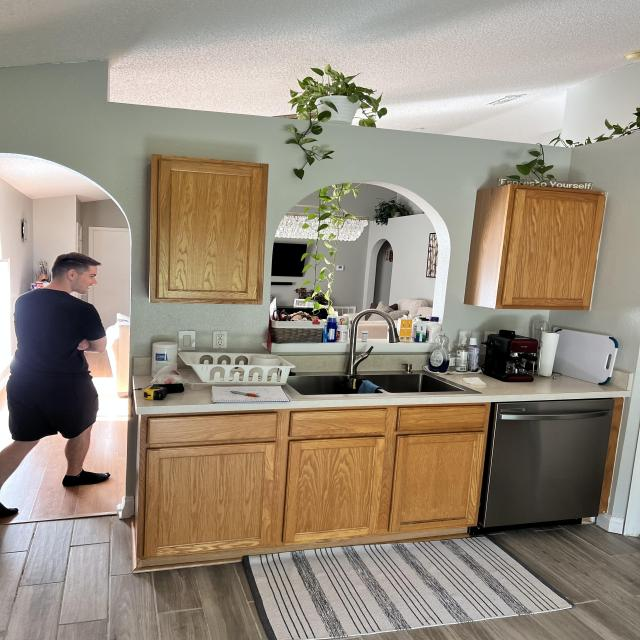Appliance_Dishwasher: (478, 401, 617, 534)
Appliance_Sink: (287, 310, 463, 395)
Cabinet_Flat: (148, 405, 489, 442)
Cabinet_Shaker: (138, 432, 487, 561), (464, 185, 606, 311), (149, 156, 269, 305)
Countertop_Solid_Surface: (131, 372, 632, 415)
